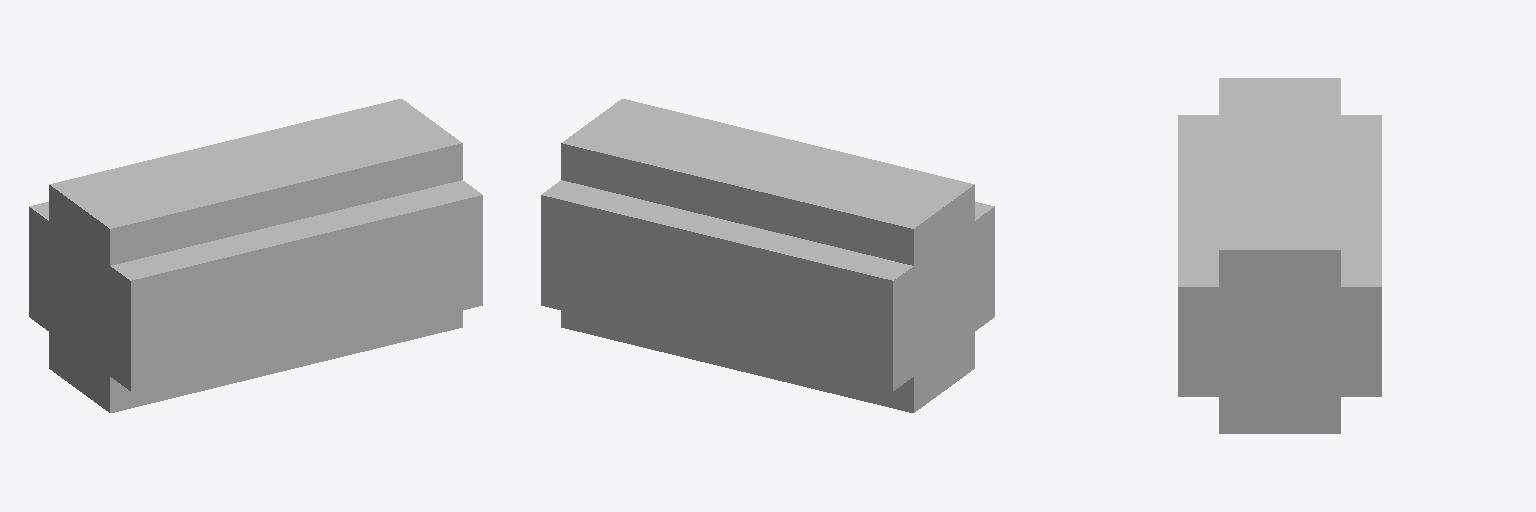
File: bullet.obj
3 views of the same model, side by side, from view 1: azimuth 30°, elevation 25°; view 2: azimuth 150°, elevation 25°; view 3: azimuth 270°, elevation 25° (orthographic).
Parts seen in each view (by area): view 1: bullet; view 2: bullet; view 3: bullet.
Part boxes in pixels (left/top/right/bottom): bullet: left=29, top=99, right=482, bottom=412; bullet: left=541, top=99, right=994, bottom=412; bullet: left=1178, top=78, right=1381, bottom=433.
Bounding box in the file's own units: 10 × 5 × 5.